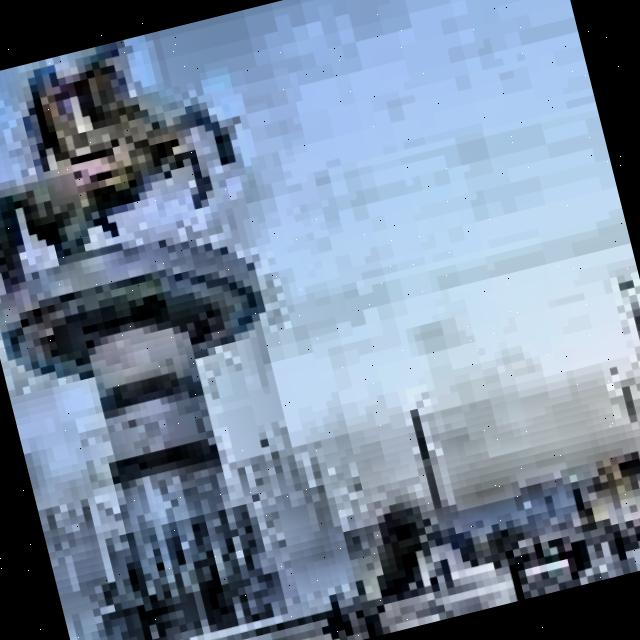alexander the great monument: (0, 21, 352, 640)
